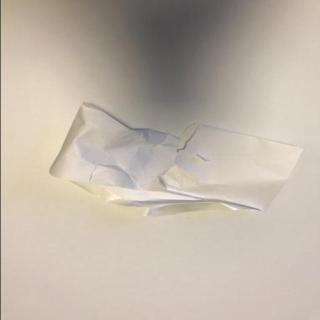Anorganik: (44, 100, 308, 222)
